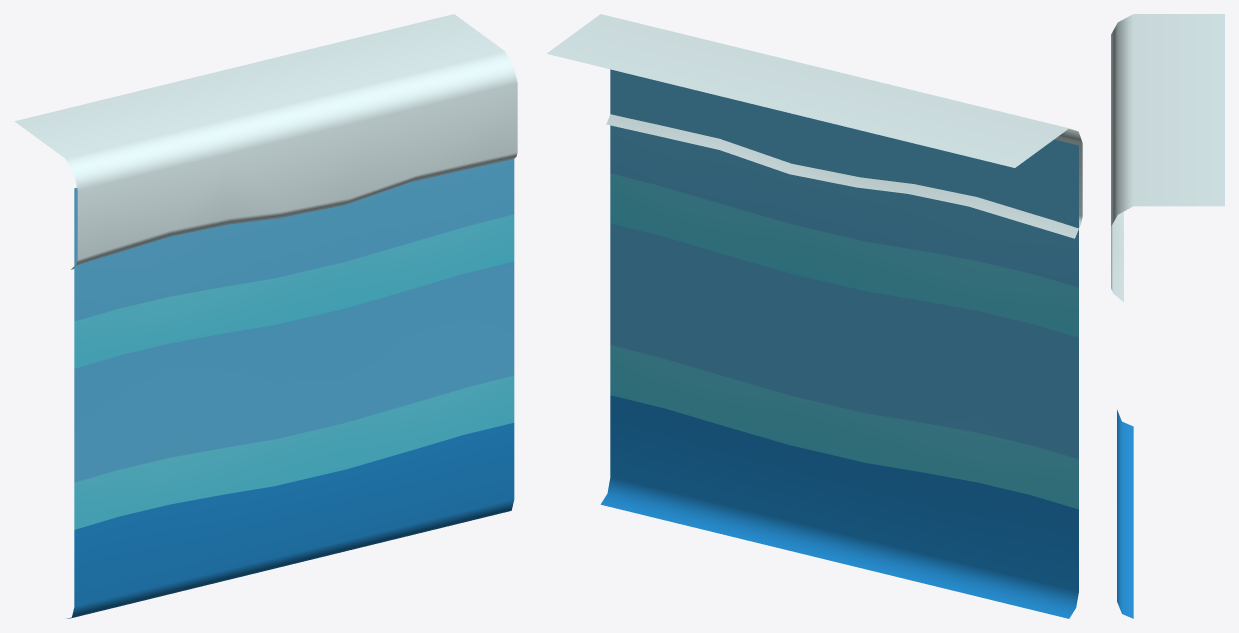
Rendered from ice_wall_004.fbx.
3 views of the same model, side by side, from view 1: azimuth 30°, elevation 25°; view 2: azimuth 150°, elevation 25°; view 3: azimuth 270°, elevation 25° (orthographic). The views are drawn at different scales.
Visible parts, largest first — view 1: ice_wall_004; view 2: ice_wall_004; view 3: ice_wall_004.
Part boxes in pixels (x1,y1,x2,y2): ice_wall_004: (14,14,517,618); ice_wall_004: (546,14,1082,618); ice_wall_004: (1111,14,1224,618).
Size of the model in its own units: 400 by 100 by 400.
